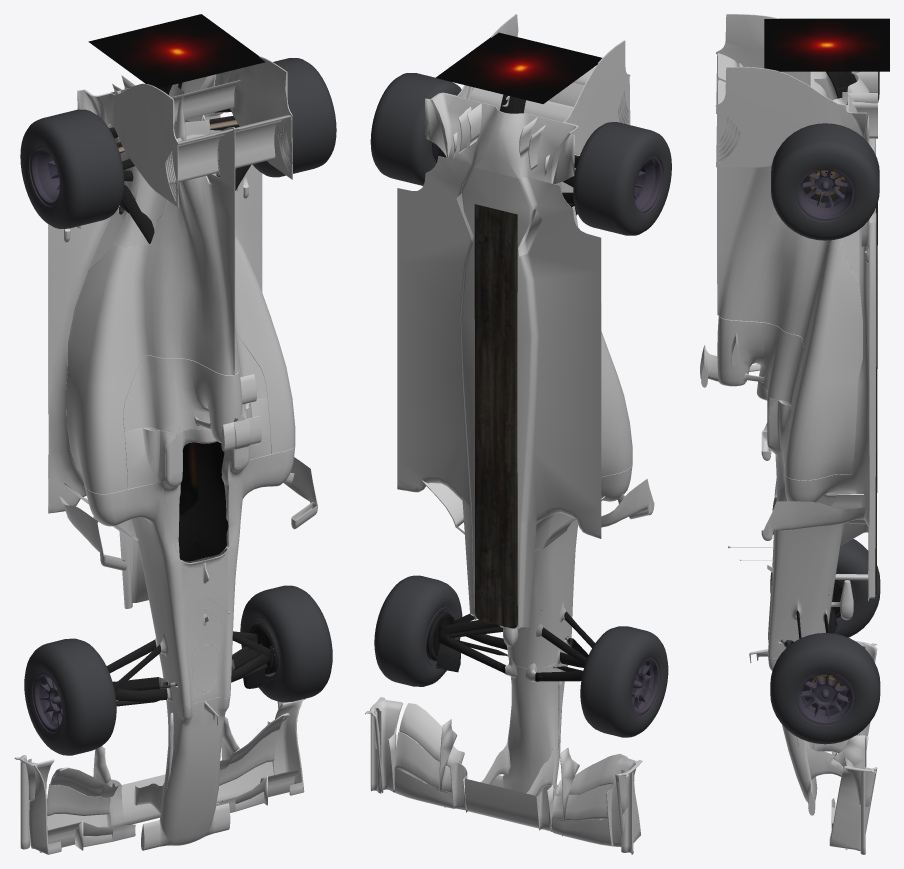
File: Car.obj
3 views of the same model, side by side, from view 1: azimuth 30°, elevation 25°; view 2: azimuth 150°, elevation 25°; view 3: azimuth 270°, elevation 25° (orthographic). The views are drawn at different scales.
Parts seen in each view (by area): view 1: object__57, object__23, object__58, object__22, object__25, object__0, object__50, object__24, object__53, object__55, object__46, object__52 (+24 smaller); view 2: object__57, object__55, object__0, object__16, object__25, object__22, object__50, object__52, object__46, object__48, object__62, object__53 (+18 smaller); view 3: object__57, object__24, object__58, object__54, object__25, object__47, object__51, object__52, object__0, object__48, object__56, object__53 (+16 smaller).
Part boxes in pixels (bbox=[...]): object__57: bbox=[48, 115, 293, 707]; object__23: bbox=[66, 84, 184, 494]; object__58: bbox=[144, 129, 238, 375]; object__22: bbox=[141, 697, 230, 850]; object__25: bbox=[88, 14, 265, 88]; object__0: bbox=[14, 698, 305, 854]; object__50: bbox=[27, 109, 123, 228]; object__24: bbox=[177, 84, 295, 454]; object__53: bbox=[104, 83, 178, 207]; object__55: bbox=[118, 82, 228, 561]; object__46: bbox=[33, 638, 115, 755]; object__52: bbox=[262, 58, 336, 177]; object__57: bbox=[397, 96, 620, 668]; object__55: bbox=[474, 94, 541, 628]; object__0: bbox=[365, 697, 642, 846]; object__16: bbox=[425, 92, 578, 183]; object__25: bbox=[435, 32, 601, 103]; object__22: bbox=[491, 657, 567, 800]; object__50: bbox=[573, 122, 665, 235]; object__52: bbox=[370, 73, 461, 185]; object__46: bbox=[581, 626, 660, 737]; object__48: bbox=[375, 575, 452, 686]; object__62: bbox=[395, 703, 464, 793]; object__53: bbox=[563, 40, 630, 155]; object__57: bbox=[728, 71, 876, 658]; object__24: bbox=[785, 73, 862, 480]; object__58: bbox=[717, 79, 819, 335]; object__54: bbox=[715, 67, 860, 167]; object__25: bbox=[764, 18, 889, 71]; object__47: bbox=[774, 651, 875, 743]; object__51: bbox=[775, 148, 875, 239]; object__52: bbox=[771, 123, 879, 240]; object__0: bbox=[829, 641, 877, 850]; object__48: bbox=[770, 633, 880, 744]; object__56: bbox=[717, 316, 815, 501]; object__53: bbox=[716, 14, 810, 113].
Bounding box in the file's own units: 1.8 × 4.95 × 1.12.
